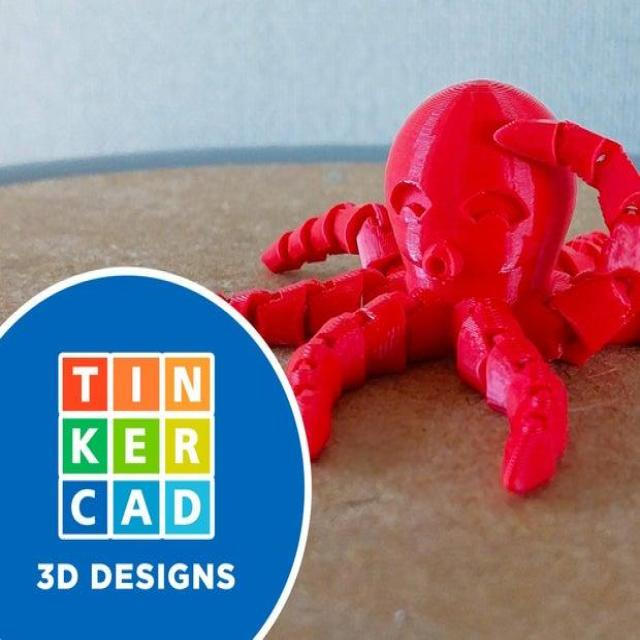Without deffect: (251, 71, 640, 544)
